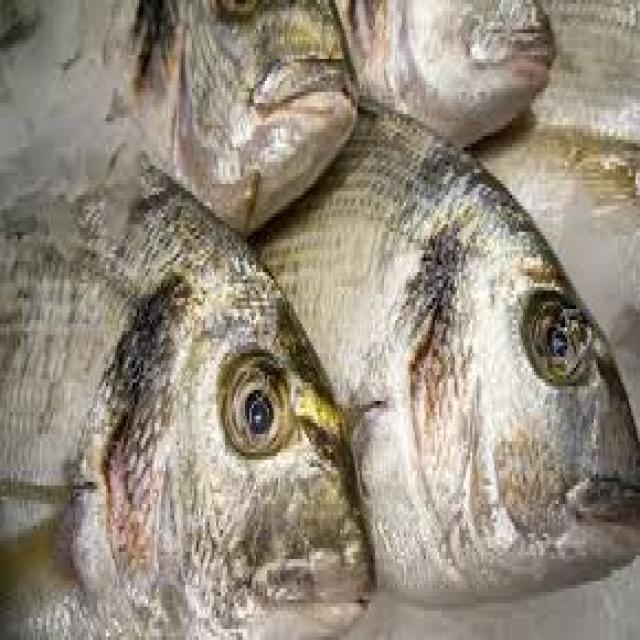organic waste: (0, 0, 638, 636), (245, 100, 638, 600), (0, 136, 373, 636), (0, 0, 355, 239), (472, 118, 638, 438), (331, 0, 552, 147), (518, 0, 638, 136)
